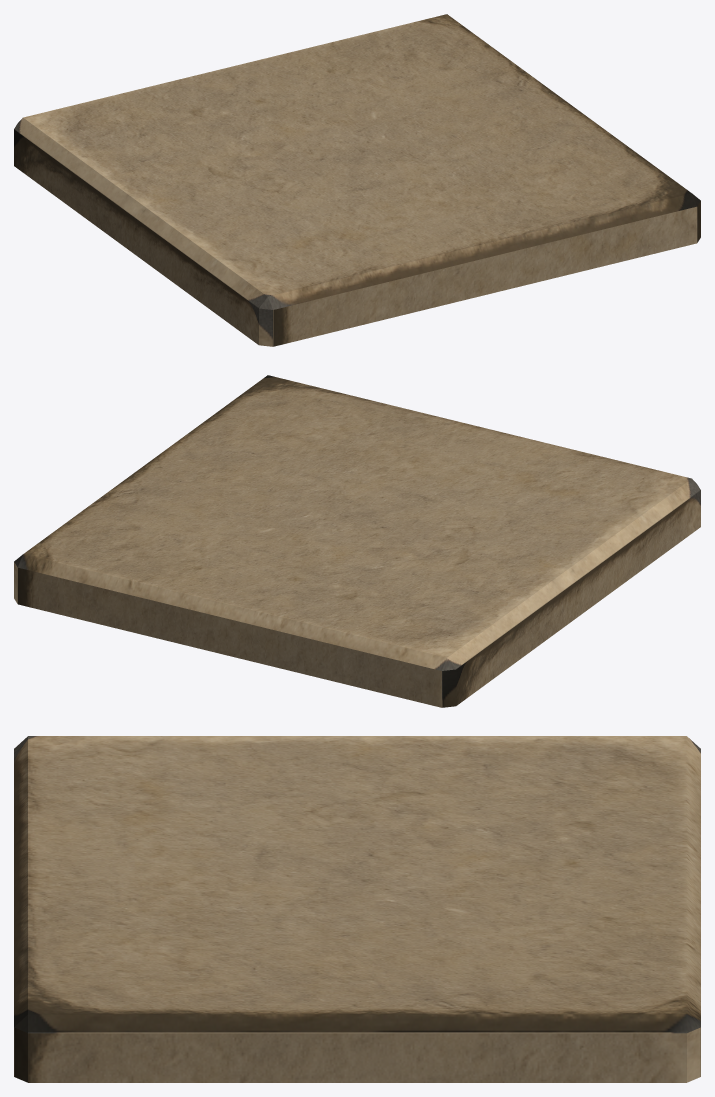
The model's file is dalle.glb.
3 renders of one model, top to bottom at view 1: azimuth 30°, elevation 25°; view 2: azimuth 150°, elevation 25°; view 3: azimuth 270°, elevation 25°, orthographic. The views are drawn at different scales.
Visible parts, largest first — view 1: Cube; view 2: Cube; view 3: Cube.
Boxes of the visible parts, left/top/right/bottom form: Cube: left=14, top=14, right=700, bottom=346; Cube: left=14, top=375, right=700, bottom=707; Cube: left=14, top=736, right=700, bottom=1082.
Bounding box in the file's own units: 2 × 0.2 × 2.
1 material, 1 textured.
